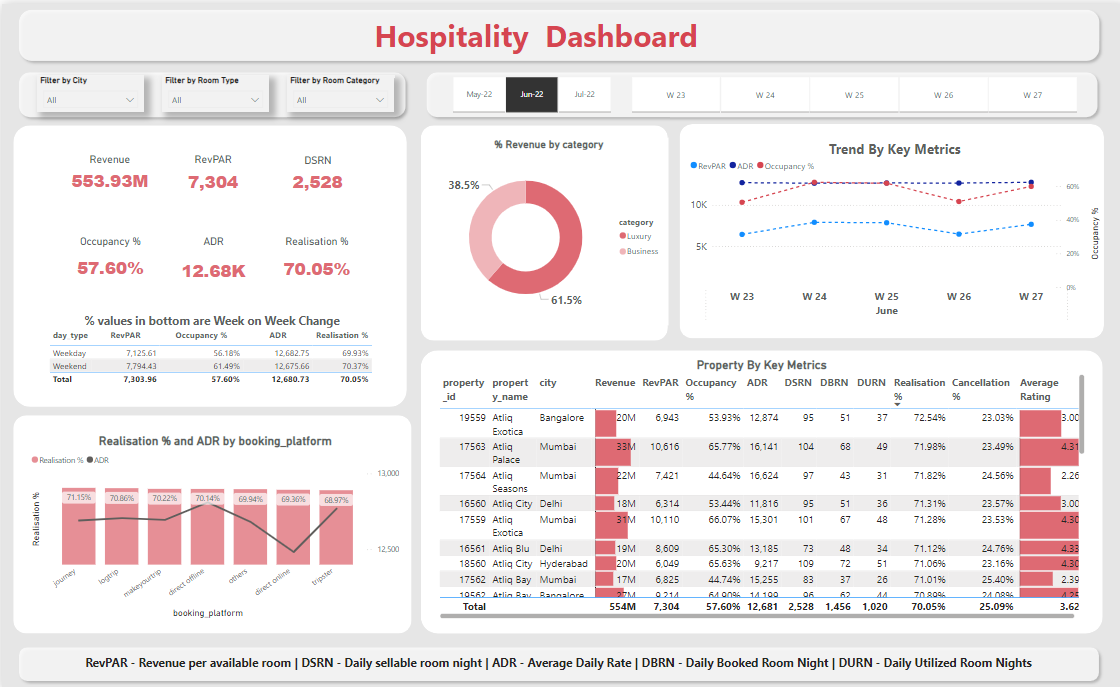

The dashboard page shown, as its layout file describes it:
{"tool":"powerbi","page":{"name":"Home","canvas":[1800,1100],"ordinal":0},"visuals":[{"type":"shape","box":[18.2,194.8,629.9,450.7],"z":0},{"type":"shape","box":[1083.9,191.8,679.1,343.3],"z":1000},{"type":"shape","box":[670.8,554.3,1091.4,453.4],"z":2000},{"type":"shape","box":[670.4,194.8,395.5,344.8],"z":3000},{"type":"shape","box":[18.2,659,637.3,349.3],"z":4000},{"type":"shape","box":[670,100,1091.7,90],"z":5000},{"type":"shape","box":[18.3,100.2,636.7,90],"z":6000},{"type":"tableEx","title":"Property By Key Metrics","fields":{"Values":["dim_hotels.property_id","dim_hotels.property_name","dim_hotels.city","Key_measure.Revenue","Key_measure.RevPAR","Key_measure.Occupancy %","Key_measure.ADR","Key_measure.DSRN","Key_measure.DBRN","Key_measure.DURN","Key_measure.Realisation %","Key_measure.Cancellation %"]},"box":[694.9,566.4,1043.1,422.4],"z":7000},{"type":"slicer","title":"Filter by City","fields":{"Values":["dim_hotels.city"]},"box":[55,114,171.7,58.3],"z":8000},{"type":"slicer","title":"Filter by Room Type","fields":{"Values":["dim_rooms.room_class"]},"box":[256.7,114,171.7,58.3],"z":9000},{"type":"slicer","fields":{"Values":["dim_date.mmm yy"]},"box":[695,110.2,301.7,70],"z":10000},{"type":"slicer","fields":{"Values":["dim_date.week no"]},"box":[981.7,110.2,761.7,70],"z":11000},{"type":"card","title":"Revenue","fields":{"Values":["Key_measure.Revenue"]},"box":[103.3,238.3,136.7,73.3],"z":12000},{"type":"donutChart","title":"% Revenue by category","fields":{"Y":["Key_measure.Revenue"],"Category":["dim_hotels.category"]},"box":[683.8,214.8,382,300],"z":13000},{"type":"lineStackedColumnComboChart","fields":{"Category":["fact_bookings.booking_platform"],"Y":["Key_measure.Realisation %"],"Y2":["Key_measure.ADR"]},"box":[42.1,688.8,598.5,300],"z":14000},{"type":"tableEx","title":"% values in bottom are Week on Week Change","fields":{"Values":["dim_date.day_type","Key_measure.RevPAR","Key_measure.Occupancy %","Key_measure.ADR","Key_measure.Realisation %"]},"box":[70,493.3,531.7,130],"z":15000},{"type":"card","title":"RevPAR","fields":{"Values":["Key_measure.RevPAR"]},"box":[267,238.3,143.3,75],"z":16000},{"type":"card","title":"DSRN","fields":{"Values":["Key_measure.DSRN"]},"box":[457.4,240,94.3,72.9],"z":17000},{"type":"card","title":"Occupancy %","fields":{"Values":["Key_measure.Occupancy %"]},"box":[90,370,166.7,85],"z":18000},{"type":"card","title":"ADR","fields":{"Values":["Key_measure.ADR"]},"box":[260.3,370,156.7,95],"z":19000},{"type":"card","title":"Realisation %","fields":{"Values":["Key_measure.Realisation %"]},"box":[428.3,370,151.7,88.3],"z":20000},{"type":"lineChart","title":"Trend By Key Metrics","fields":{"Category":["dim_date.date.Variation.Date Hierarchy.Month","dim_date.week no"],"Y":["Key_measure.RevPAR","Key_measure.ADR"],"Y2":["Key_measure.Occupancy %"]},"box":[1096.7,215,665,300],"z":21000},{"type":"shape","box":[18,1020,1746,72],"z":22000},{"type":"textbox","box":[128.3,1035,1545,43.3],"z":23000},{"type":"slicer","title":"Filter by Room Category","fields":{"Values":["dim_hotels.category"]},"box":[456.7,114,171.7,58.3],"z":24000},{"type":"shape","box":[18.3,0,1746.7,100],"z":25000},{"type":"textbox","box":[136.7,11.7,1463.3,76.7],"z":26000}]}

Visuals, with their boxes in screenshot pixels (x1, y1, x2, y2), scaled from the page's 1800x1100 canvas onto the 1120x687 screenshot:
shape: 11 122 403 403
shape: 674 120 1097 334
shape: 417 346 1096 629
shape: 417 122 663 337
shape: 11 412 408 630
shape: 417 62 1096 119
shape: 11 63 408 119
"Property By Key Metrics" tableEx: 432 354 1081 618
"Filter by City" slicer: 34 71 141 108
"Filter by Room Type" slicer: 160 71 267 108
slicer - dim_date.mmm yy: 432 69 620 113
slicer - dim_date.week no: 611 69 1085 113
"Revenue" card: 64 149 149 195
"% Revenue by category" donutChart: 425 134 663 322
lineStackedColumnComboChart - fact_bookings.booking_platform x Key_measure.Realisation %: 26 430 399 618
"% values in bottom are Week on Week Change" tableEx: 44 308 374 389
"RevPAR" card: 166 149 255 196
"DSRN" card: 285 150 343 195
"Occupancy %" card: 56 231 160 284
"ADR" card: 162 231 259 290
"Realisation %" card: 266 231 361 286
"Trend By Key Metrics" lineChart: 682 134 1096 322
shape: 11 637 1098 682
textbox: 80 646 1041 673
"Filter by Room Category" slicer: 284 71 391 108
shape: 11 0 1098 62
textbox: 85 7 996 55
